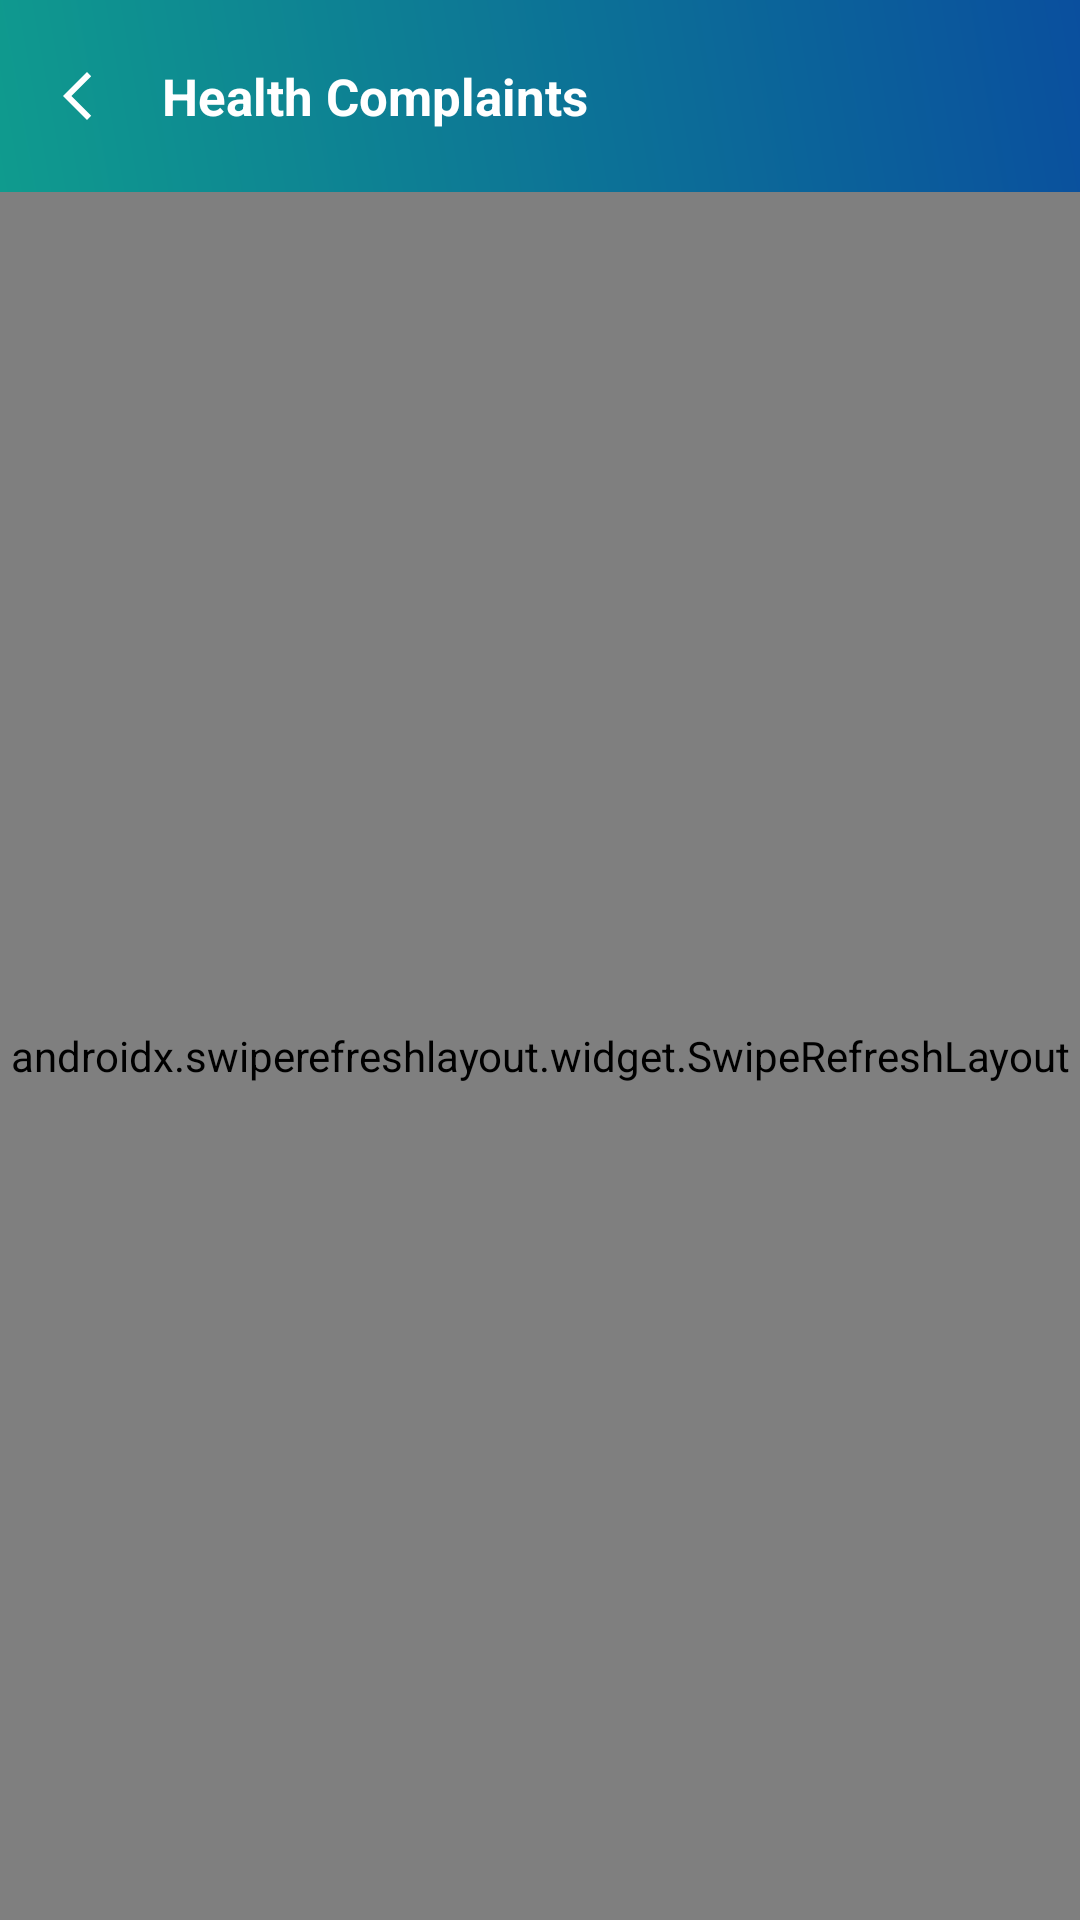

Named icons in this screenshot (1080px x 1920px) and their bounding boxes, (x1, y1, x2, y2):
back: (63, 72, 91, 120)
